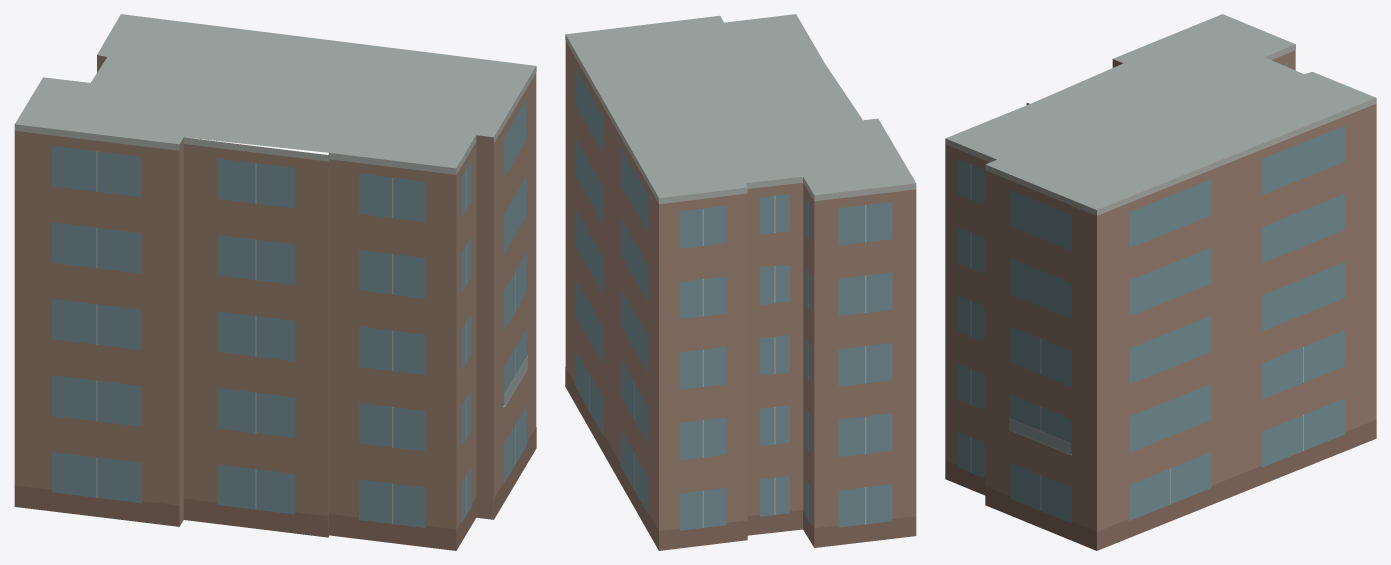
Rendered from survey-upis-32677962.glb.
3 views of the same model, side by side, from view 1: azimuth 30°, elevation 25°; view 2: azimuth 150°, elevation 25°; view 3: azimuth 270°, elevation 25° (orthographic). The views are drawn at different scales.
Parts seen in each view (by area): view 1: survey-upis-32677962.tmp; view 2: survey-upis-32677962.tmp; view 3: survey-upis-32677962.tmp.
Boxes of the visible parts, x1,y1,x2,y2 form: survey-upis-32677962.tmp: (14,14,536,550); survey-upis-32677962.tmp: (565,14,916,550); survey-upis-32677962.tmp: (945,14,1376,550).
Bounding box in the file's own units: 17.78 × 14.4 × 16.52.
